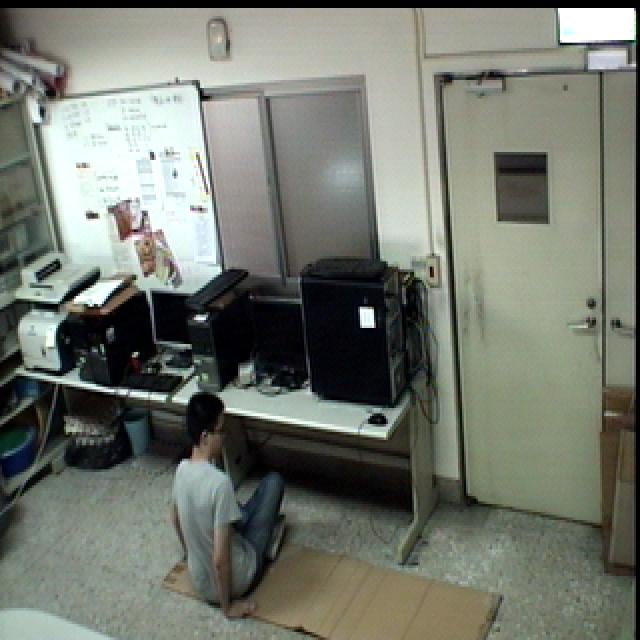sit: (163, 389, 292, 623)
